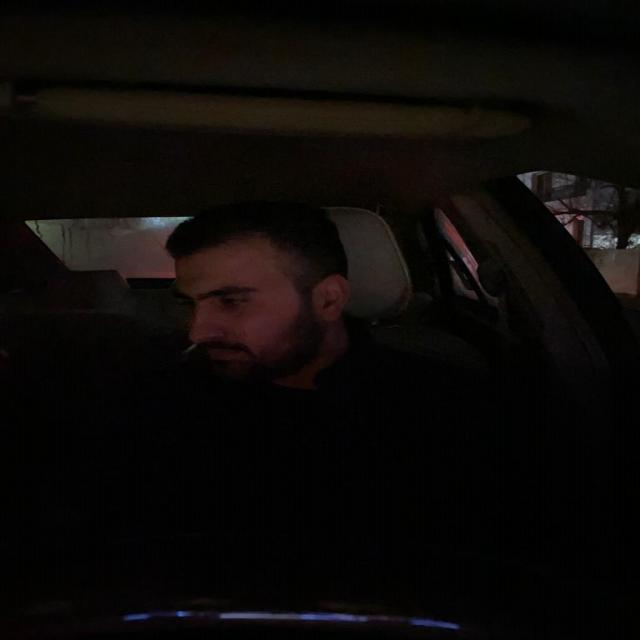person: (160, 213, 365, 395)
